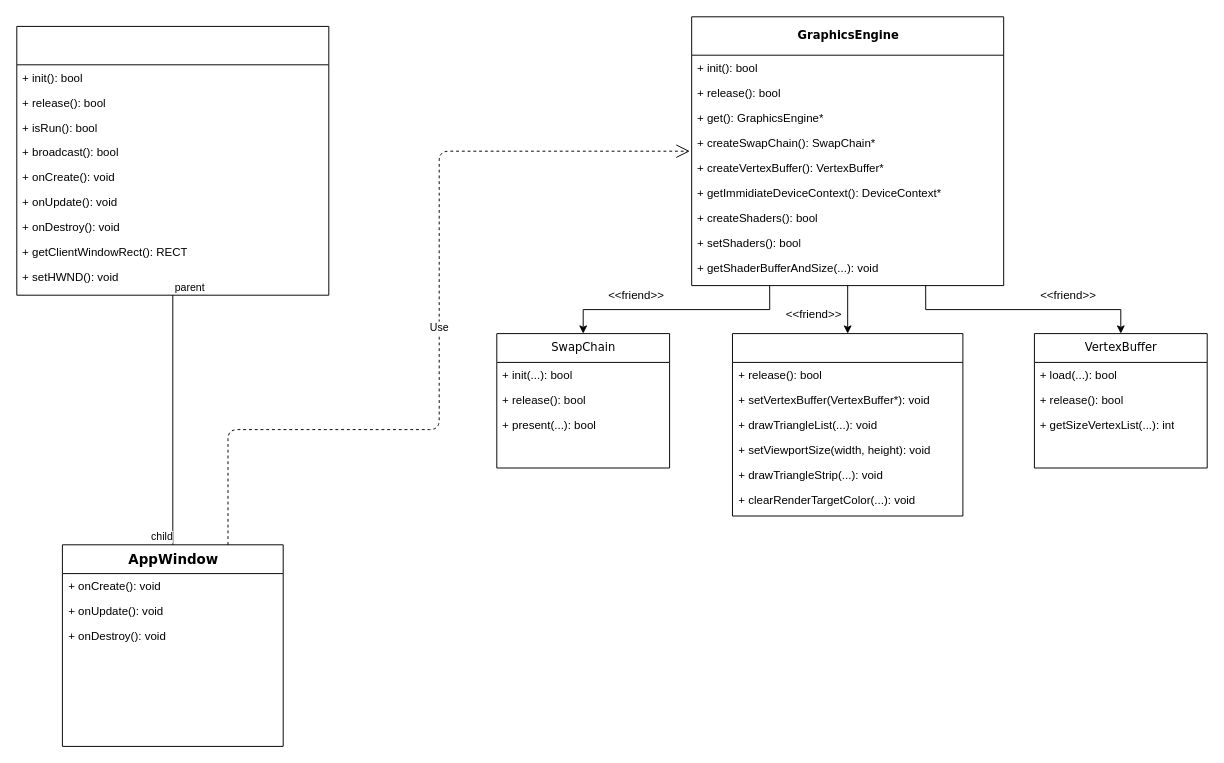
This 1224x763 diagram has some shape labels left out. The box of each missing label's shape, as (x1, y1, x2, y2) in pixels:
<<Interface> > Window: (16, 25, 329, 295)
DeviceContex t: (732, 333, 963, 516)
